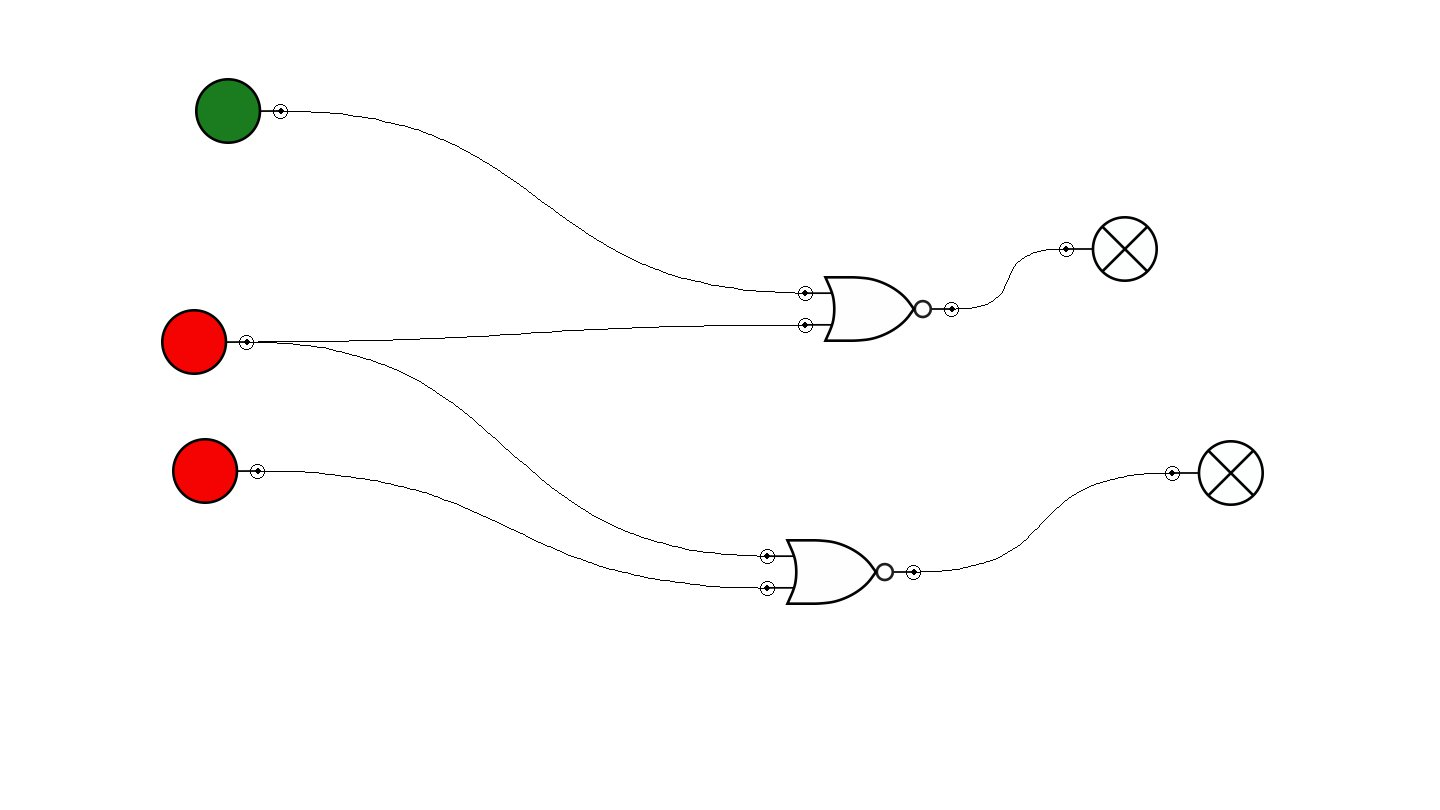bulb: (1165, 440, 1264, 506), (1059, 216, 1158, 282)
nor: (760, 539, 921, 605), (798, 276, 959, 342)
switch_False: (172, 438, 265, 504), (161, 309, 254, 375)
switch_True: (195, 78, 288, 144)
